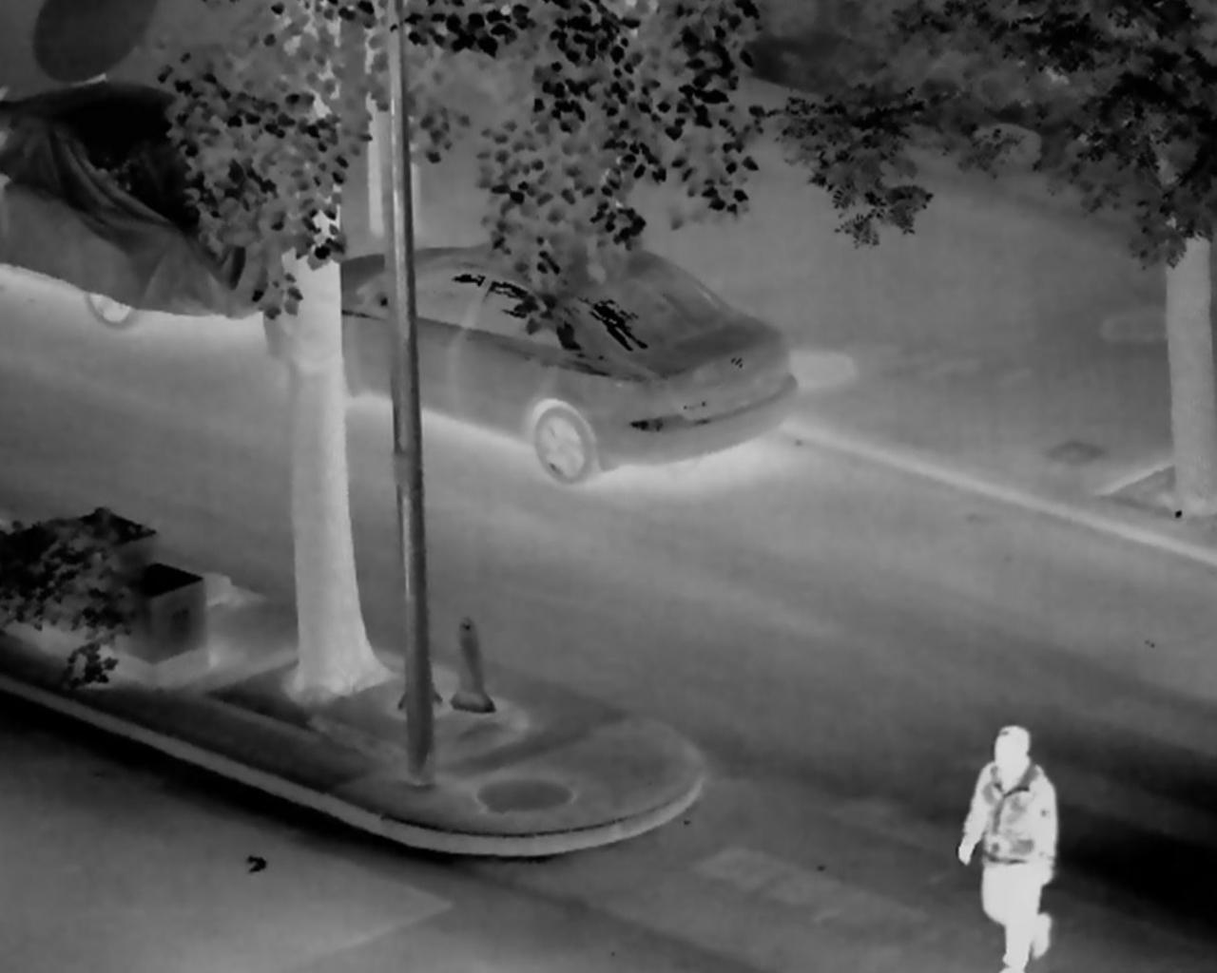person: (954, 723, 1059, 973)
